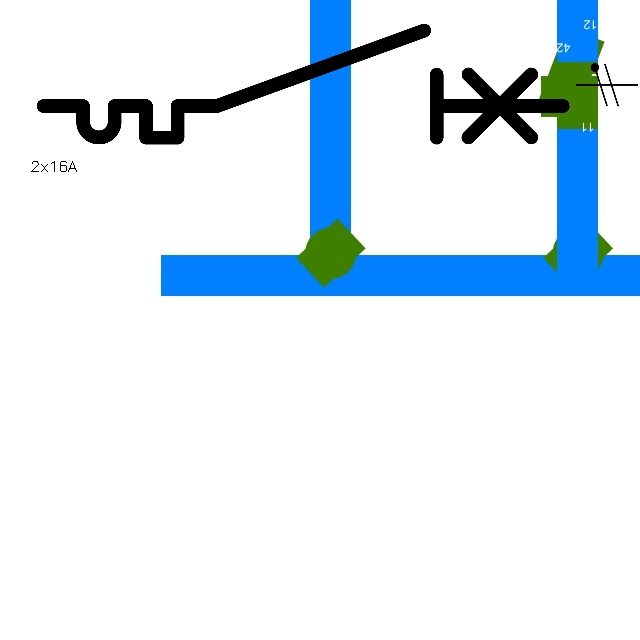interruptor_termomagnetico: (30, 17, 576, 151)
